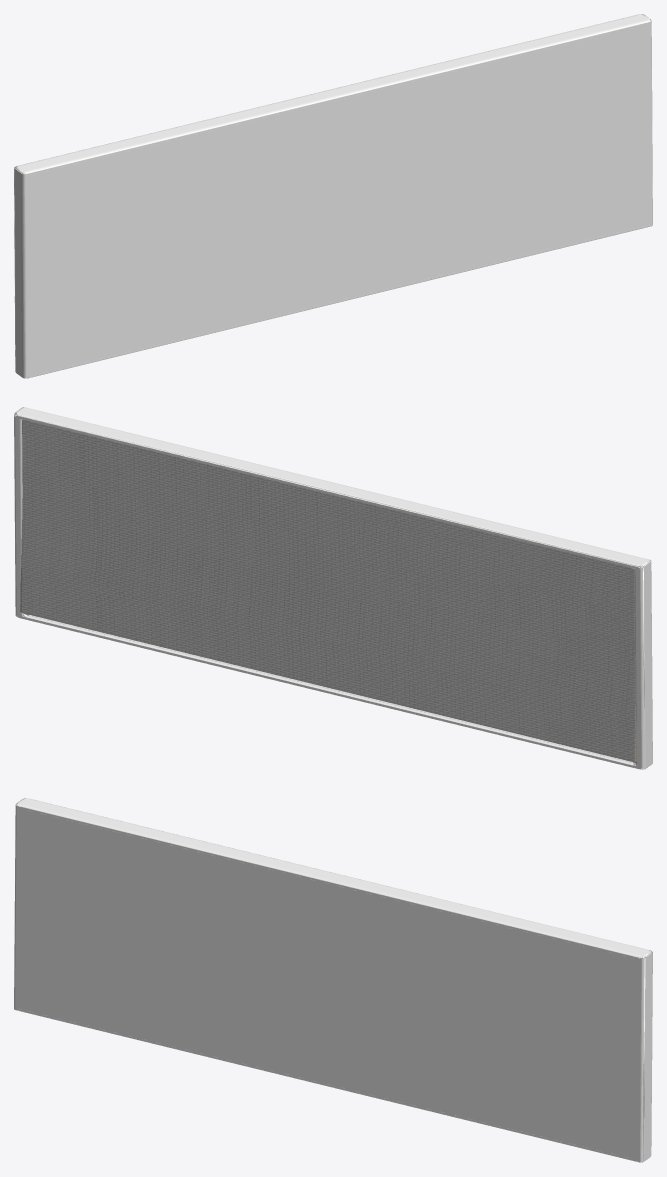
File: canvas-panorama.glb
3 renders of one model, top to bottom at view 1: azimuth 30°, elevation 25°; view 2: azimuth 150°, elevation 25°; view 3: azimuth 330°, elevation 25°, orthographic.
Parts seen in each view (by area): view 1: canvas-print_0.009; view 2: canvas-print_0.009; view 3: canvas-print_0.009.
Boxes of the visible parts, left/top/right/bottom form: canvas-print_0.009: left=14, top=14, right=652, bottom=378; canvas-print_0.009: left=14, top=407, right=652, bottom=769; canvas-print_0.009: left=14, top=798, right=652, bottom=1162.
Bounding box in the file's own units: 1.87 × 0.5827 × 0.0618.
2 materials, 2 textured.
